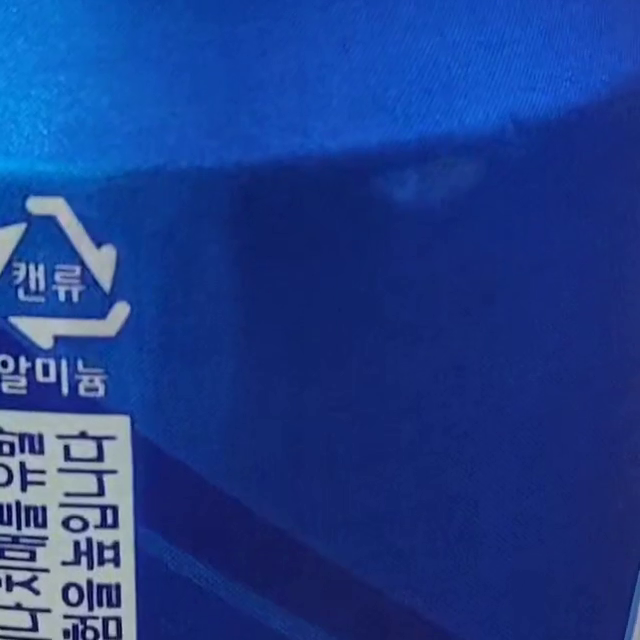Can: (1, 198, 133, 348)
